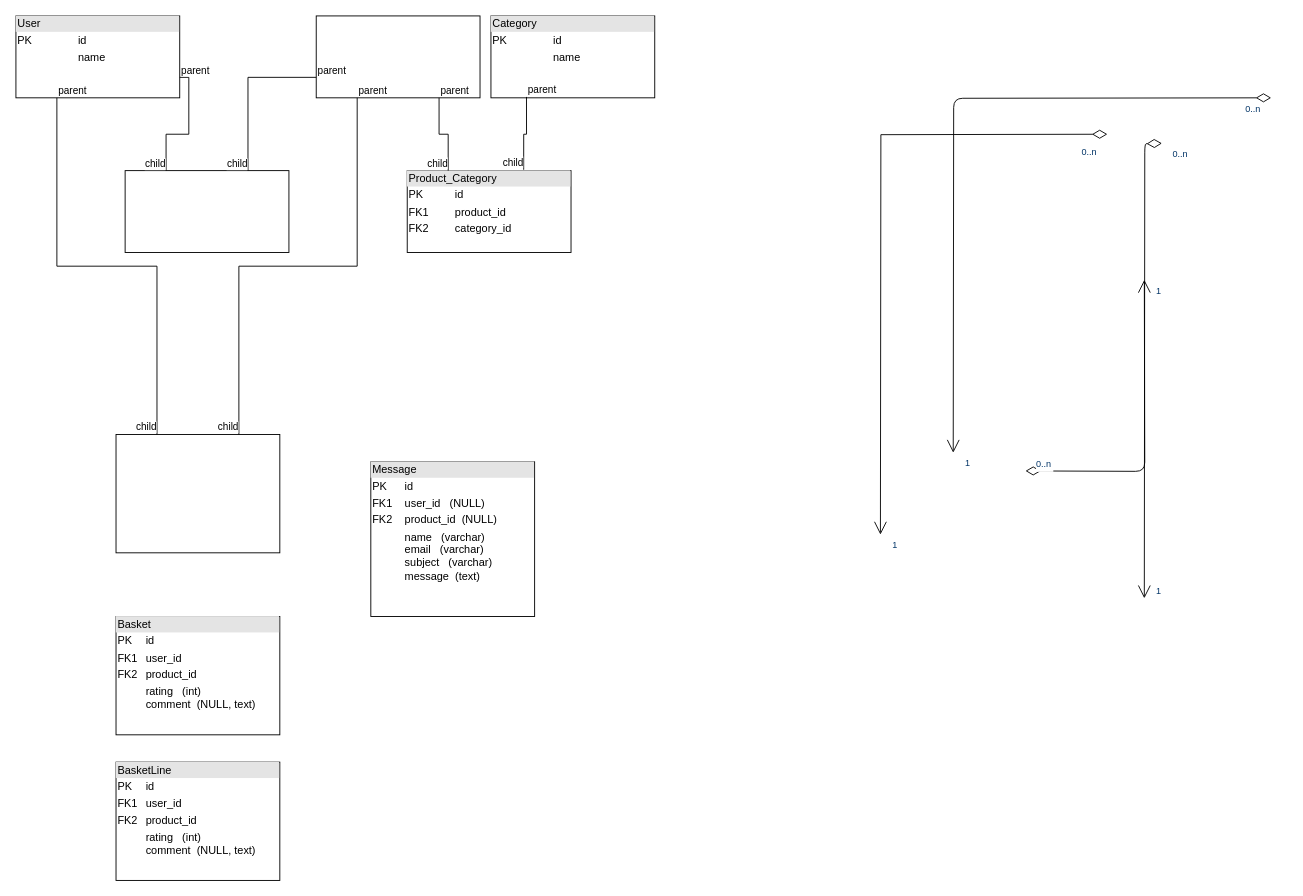
Some shapes in this 1303 by 896 pixel diagram are drawn without their labels. Each missing label, with the centre of its shape:
"History PK id FK1 user_id FK2 product_id" belongs at point 206,211.
"Product PK id name" belongs at point 397,56.
"Review PK id FK1 user_id FK2 product_id rating (int) comment (NULL, text)" belongs at point 197,493.
